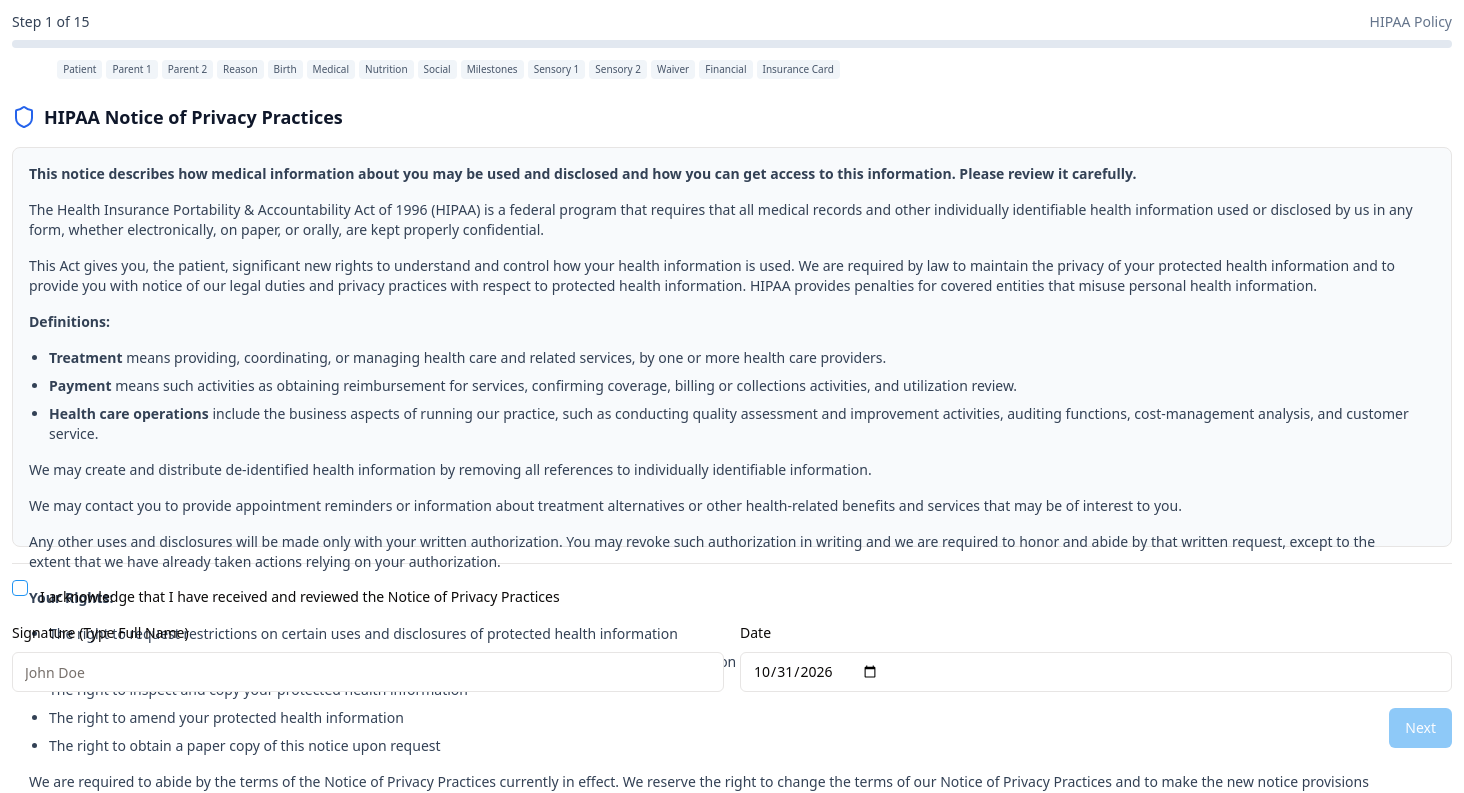
Scenario: PatientIntakeForm › shows validation error when first name is empty on blur
The image size is (1464, 793).
Click the checkbox: (20, 588) [12,580,28,596]
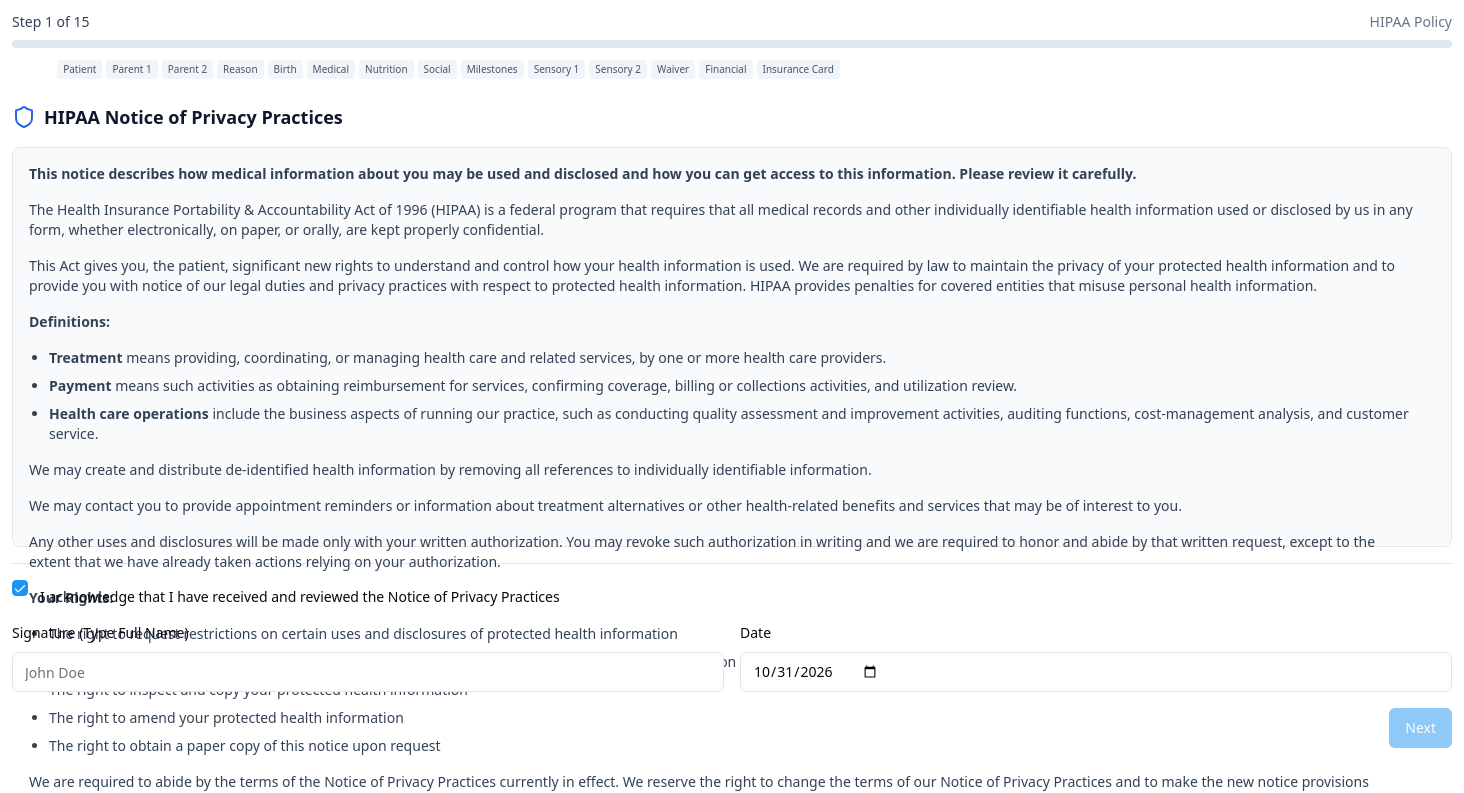
In the field with placeholder "John Doe": (368, 672) [12,652,724,692], type "Jane Smith"
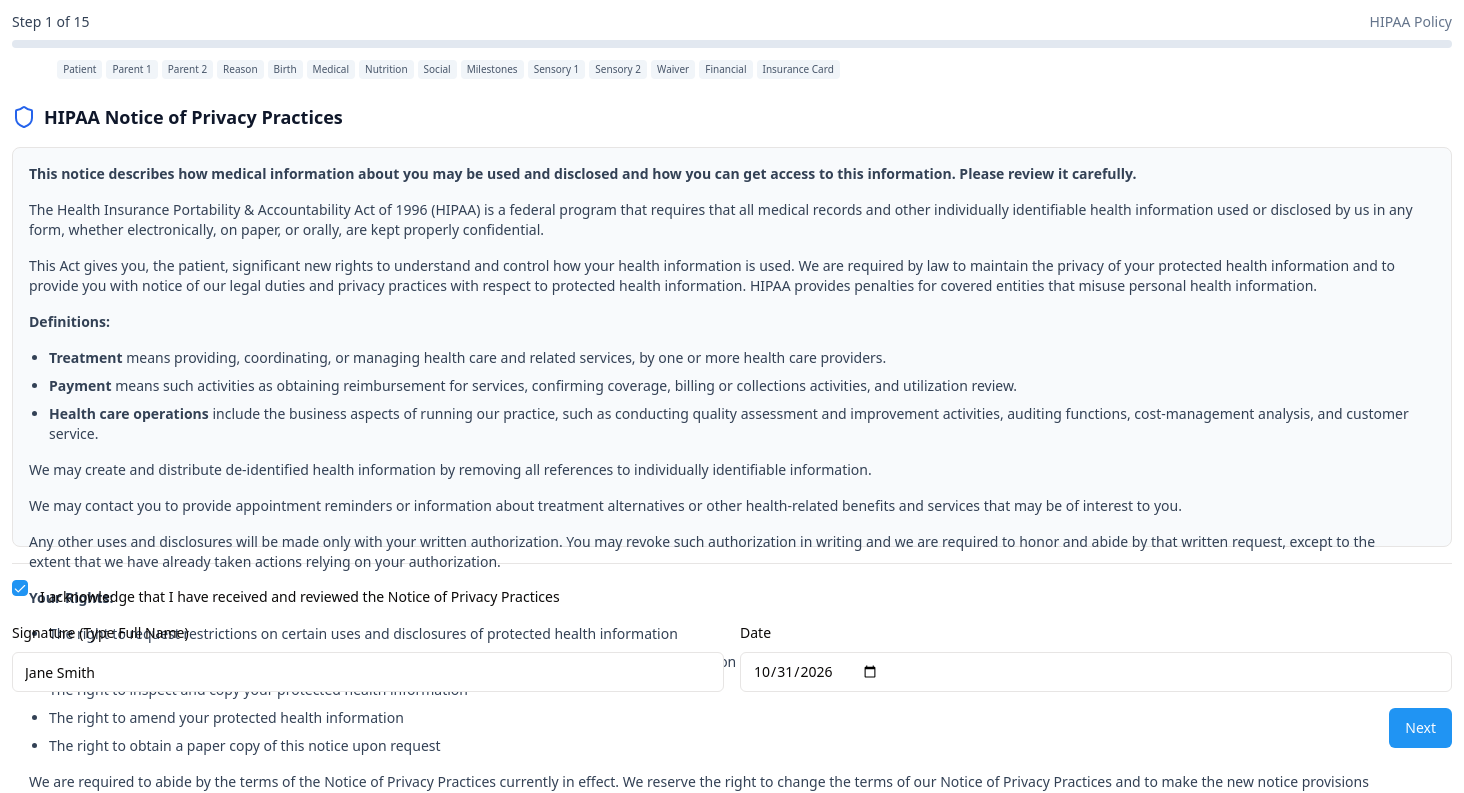
Click the button "Next": (1421, 728) [1389,708,1452,748]
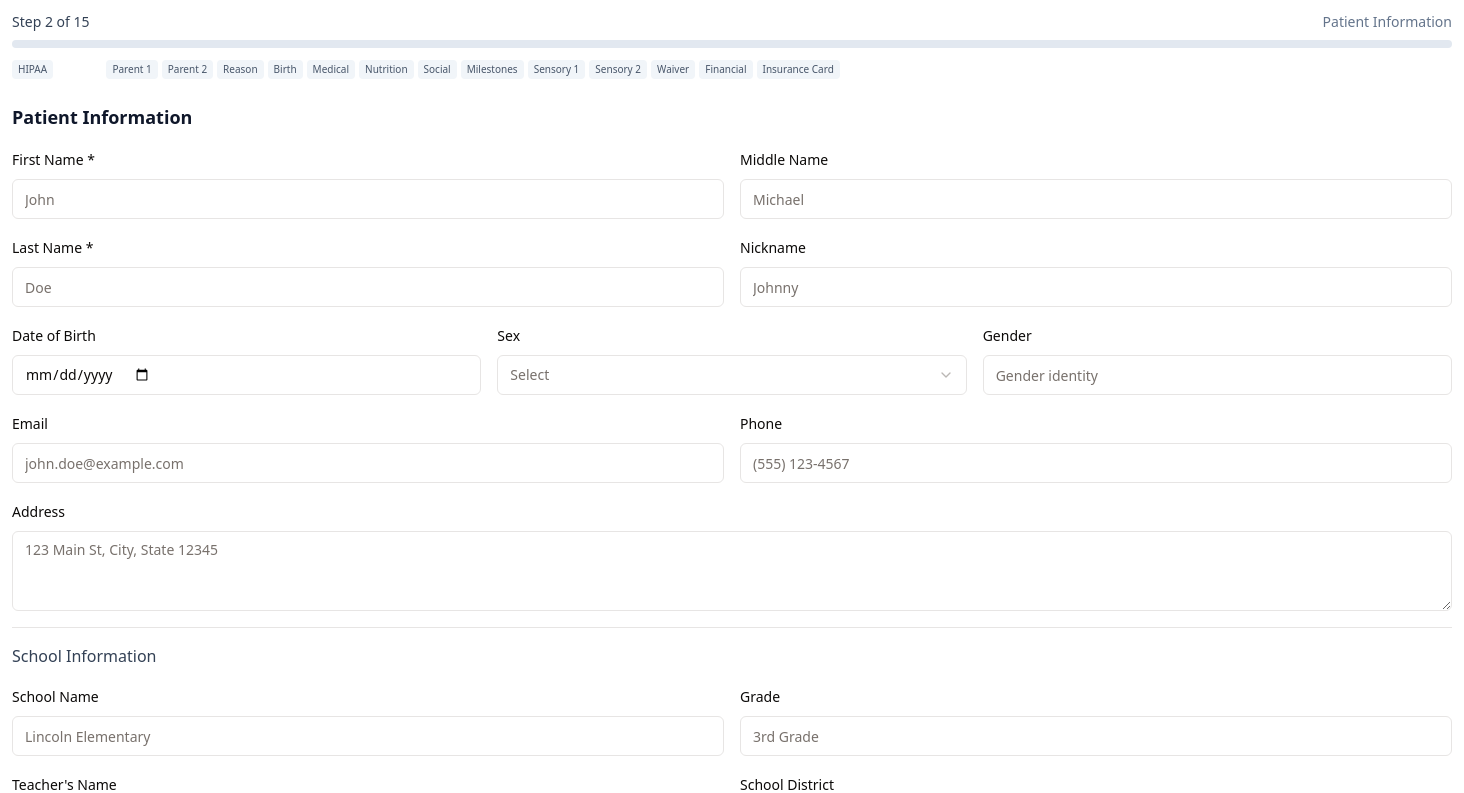
Now the text "Patient Information" is shown, box [1323,12,1452,32]
Leave the field with placeholder "John", box [12,179,724,219]
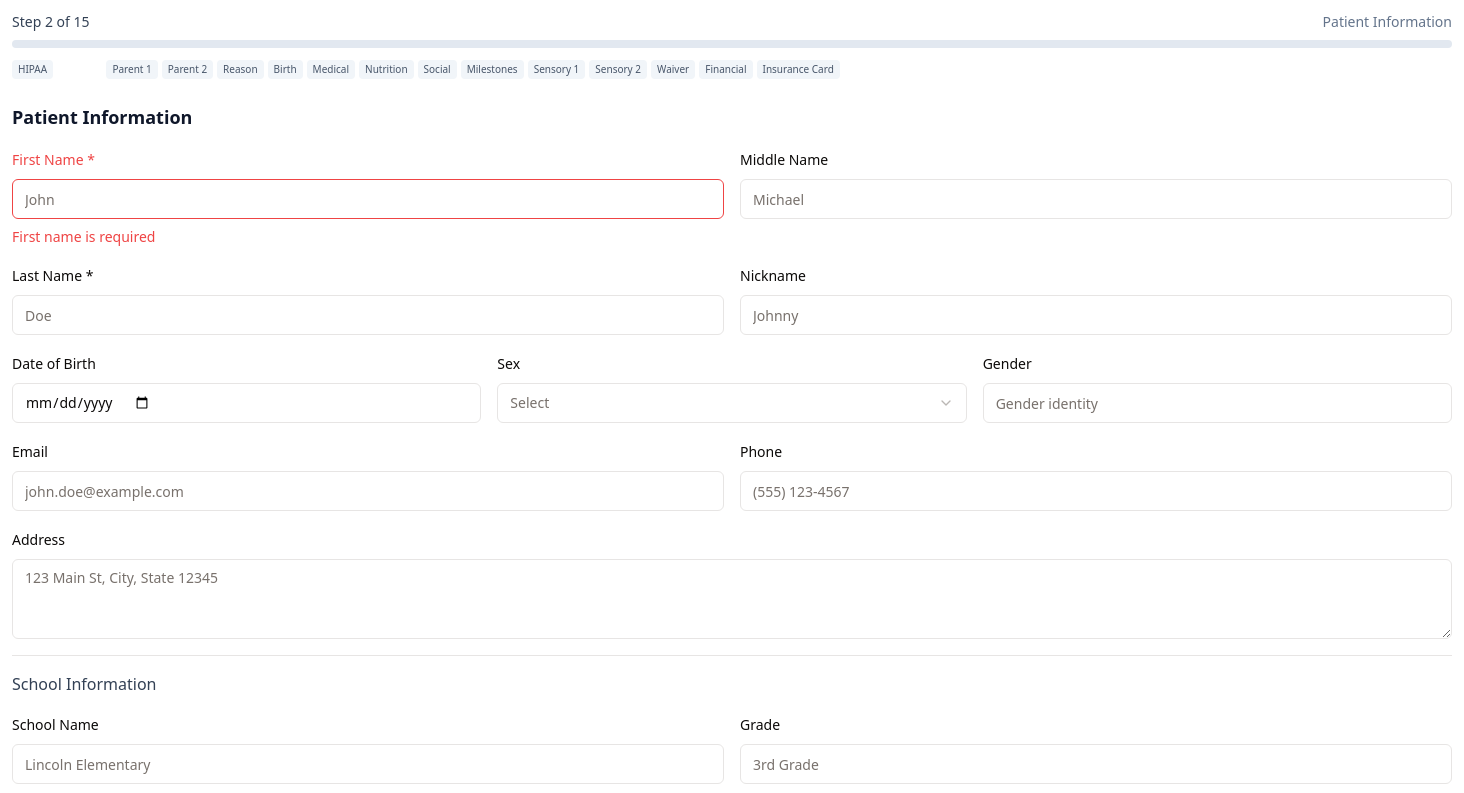
Now the text "First name is required" is shown, box [12,227,155,246]
